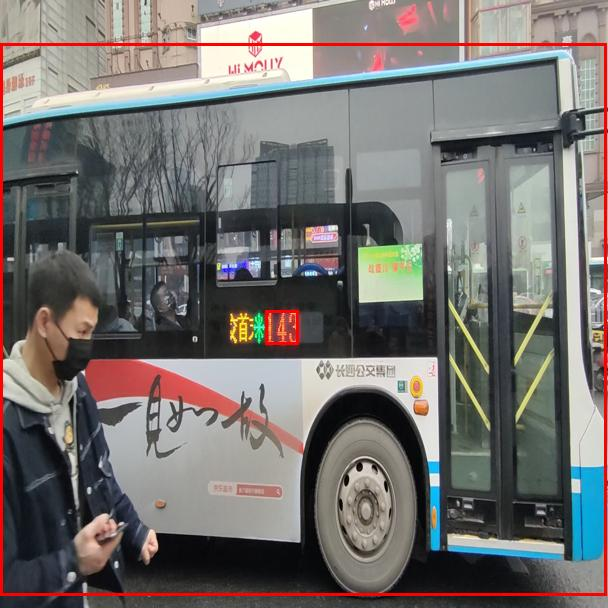bus: (0, 43, 606, 595)
screen: (265, 310, 298, 344)
